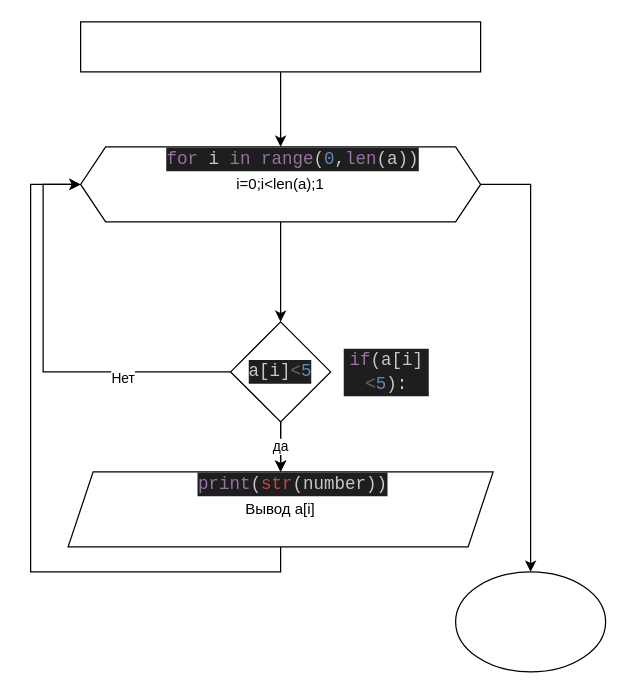
This 628x694 diagram has some shape labels left out. The shapes that lost their labels are listed below. From the top down, each one's centre as x and y in pixels, then its label:
the point at 280,46: a = [ 1 , 1 , 2 , 3 , 5 , 8 , 13 , 21 , 34 , 55 , 89 , 100 ]
the point at 530,621: Конец
